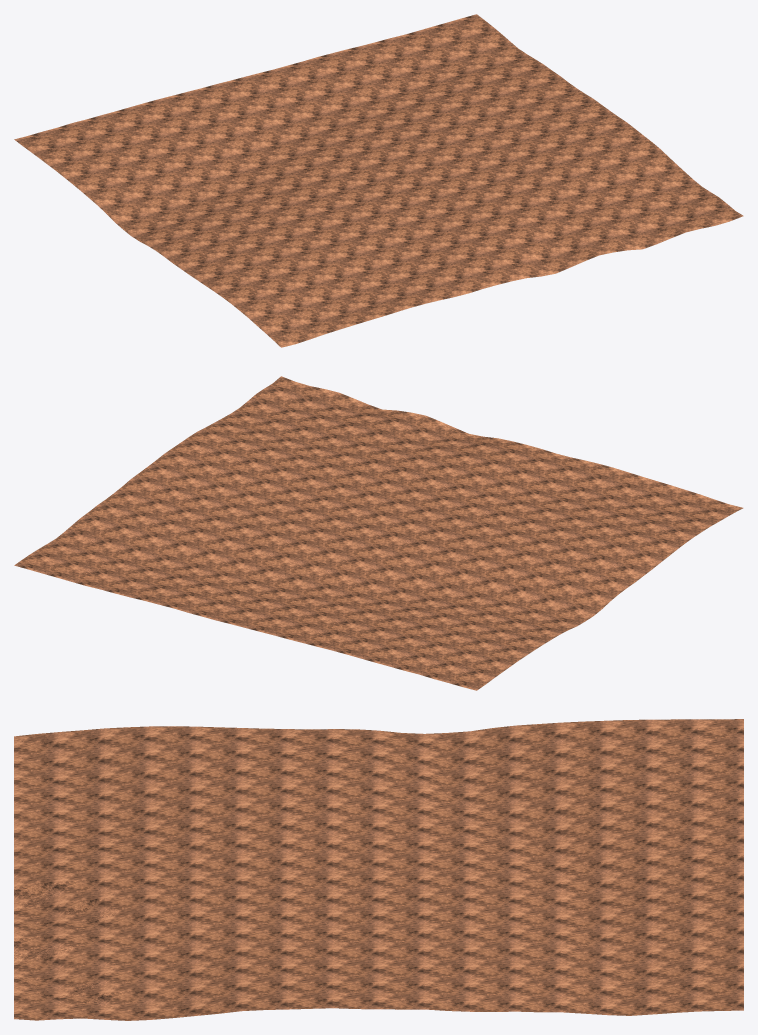
File: terrain_07_10.dae
3 views of the same model, one above another, from view 1: azimuth 30°, elevation 25°; view 2: azimuth 150°, elevation 25°; view 3: azimuth 270°, elevation 25° (orthographic). The views are drawn at different scales.
Parts seen in each view (by area): view 1: terrain_07_10-node; view 2: terrain_07_10-node; view 3: terrain_07_10-node.
Part boxes in pixels (x1=…): terrain_07_10-node: x1=14, y1=14, x2=743, y2=347; terrain_07_10-node: x1=14, y1=376, x2=743, y2=690; terrain_07_10-node: x1=14, y1=719, x2=743, y2=1020.
Bounding box in the file's own units: 128 × 128 × 7.09.
1 material, 1 textured.
